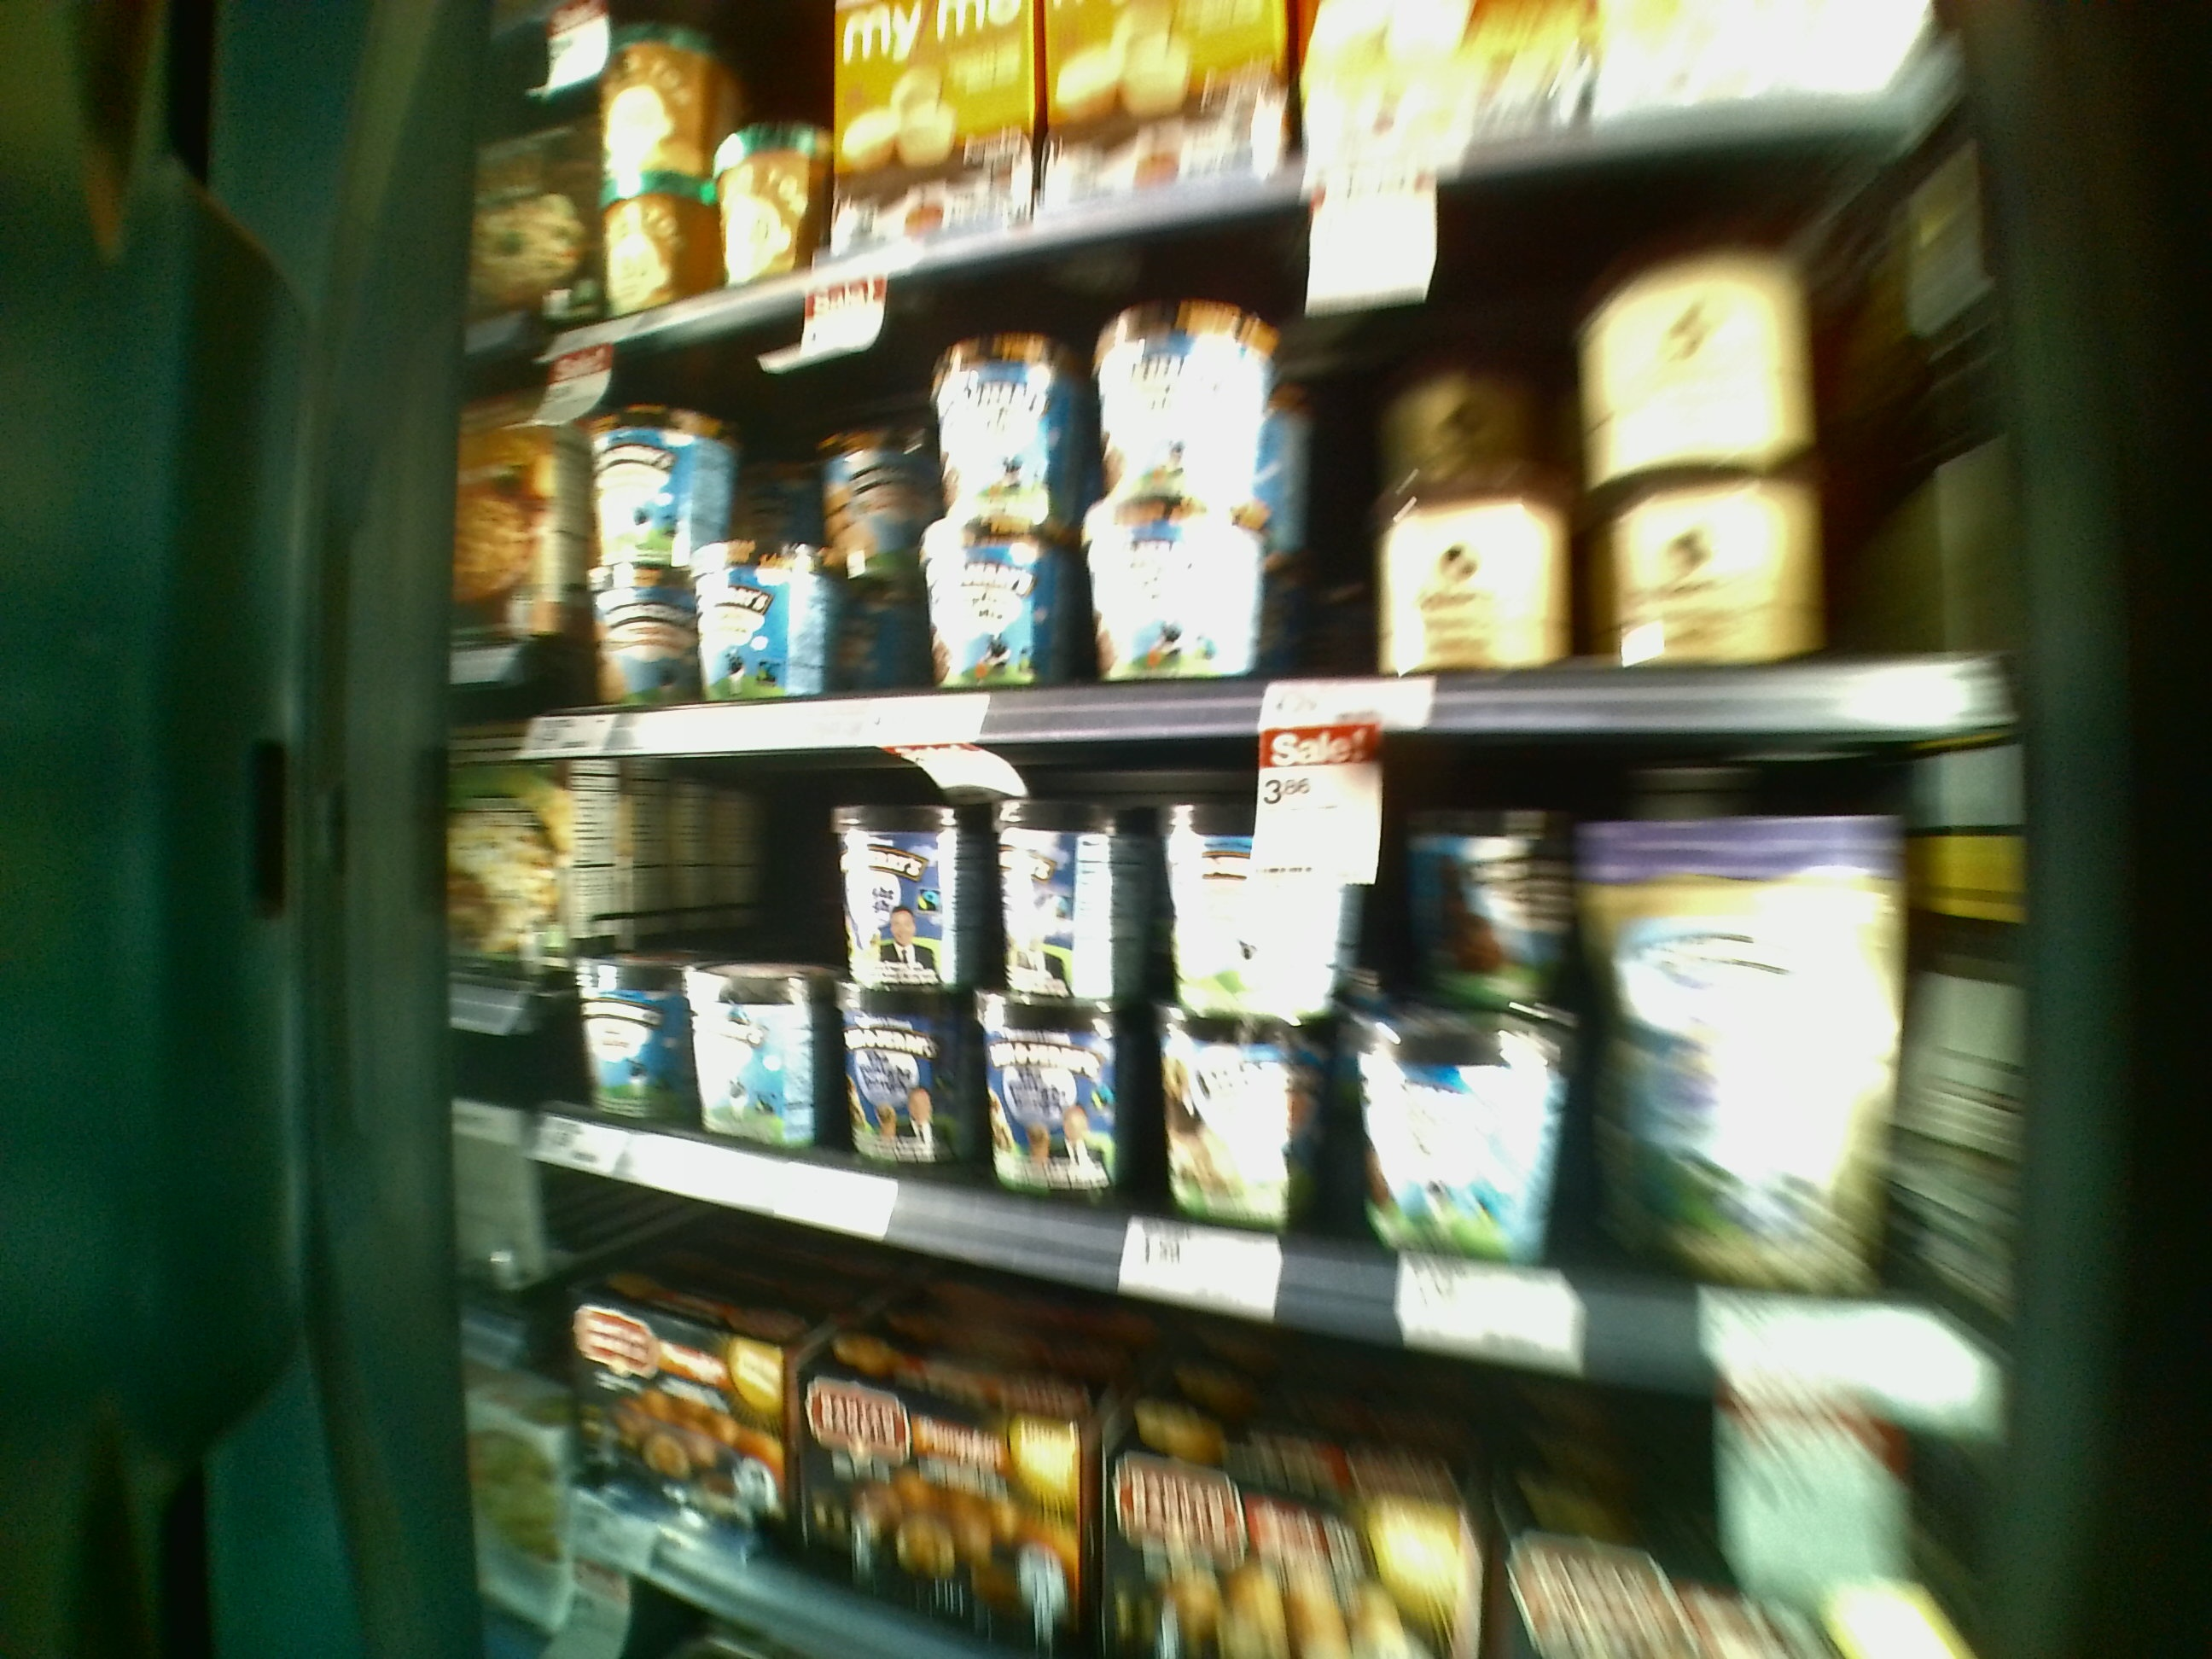shelf: (545, 699, 1975, 1412), (542, 296, 1991, 737)
